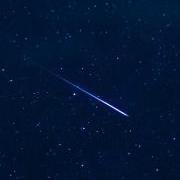meteorite: (64, 82, 142, 118)
